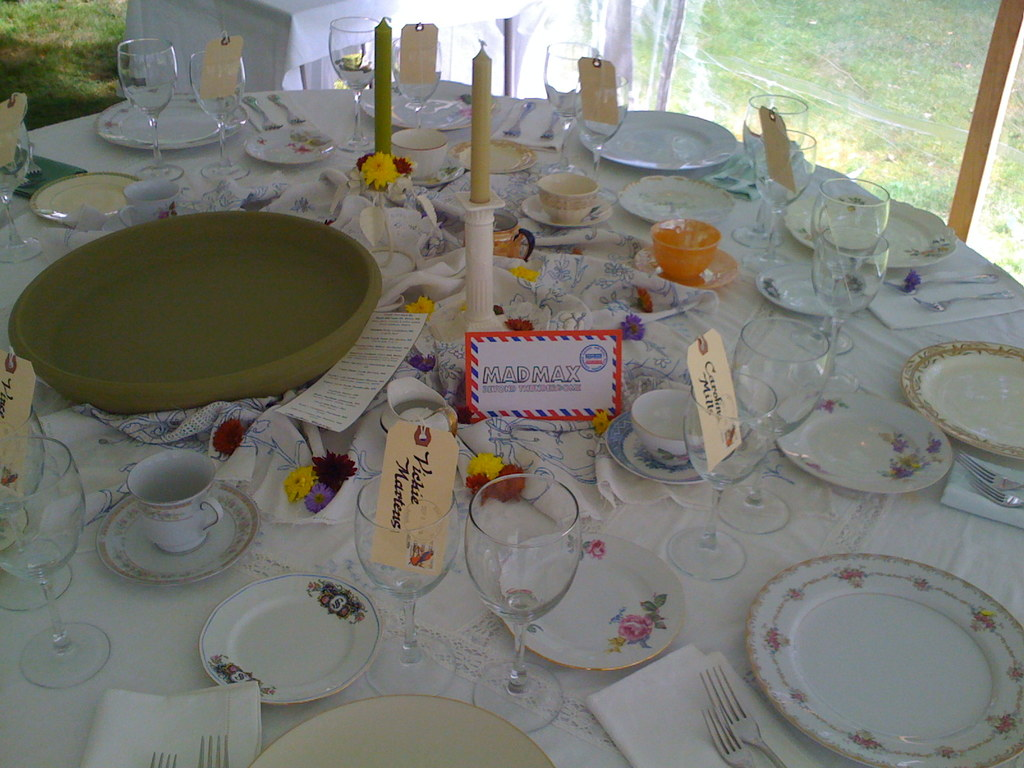plate: (738, 556, 1023, 767), (499, 528, 693, 673), (246, 677, 556, 767), (598, 397, 730, 496), (355, 66, 500, 132), (242, 117, 339, 169), (381, 157, 476, 205)
